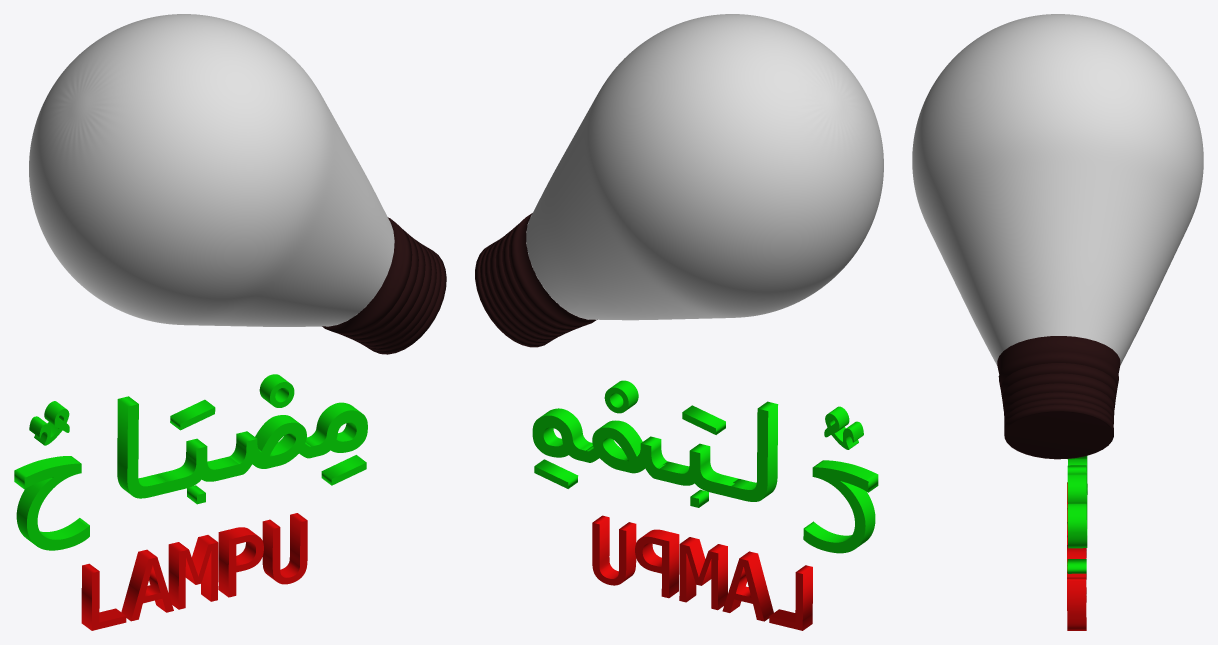
Rendered from Light Bulb.fbx.
3 views of the same model, side by side, from view 1: azimuth 30°, elevation 25°; view 2: azimuth 150°, elevation 25°; view 3: azimuth 270°, elevation 25° (orthographic). The views are drawn at different scales.
Visible parts, largest first — view 1: Sphere.006, Text, Teks, Sphere, Text.004, Text.003, Text.001, Text.002; view 2: Sphere.006, Text, Teks, Sphere, Text.004, Text.003, Text.001, Text.002; view 3: Sphere.006, Sphere, Text, Teks.
Part boxes in pixels (x1,y1,x2,y2): Sphere.006: (29,14,394,326); Text: (14,396,367,550); Teks: (81,513,307,630); Sphere: (322,217,446,354); Text.004: (29,401,69,445); Text.003: (259,374,294,407); Text.001: (321,455,366,485); Text.002: (170,399,215,430); Sphere.006: (526,14,883,320); Text: (532,401,878,553); Teks: (592,515,812,630); Sphere: (475,213,597,347); Text.004: (824,406,863,449); Text.003: (604,380,638,413); Text.001: (534,459,578,488); Text.002: (682,405,725,434); Sphere.006: (912,14,1203,366); Sphere: (997,336,1120,459); Text: (1067,456,1087,548); Teks: (1067,482,1086,630).
Bounding box in the file's own units: 460 × 634 × 305.
